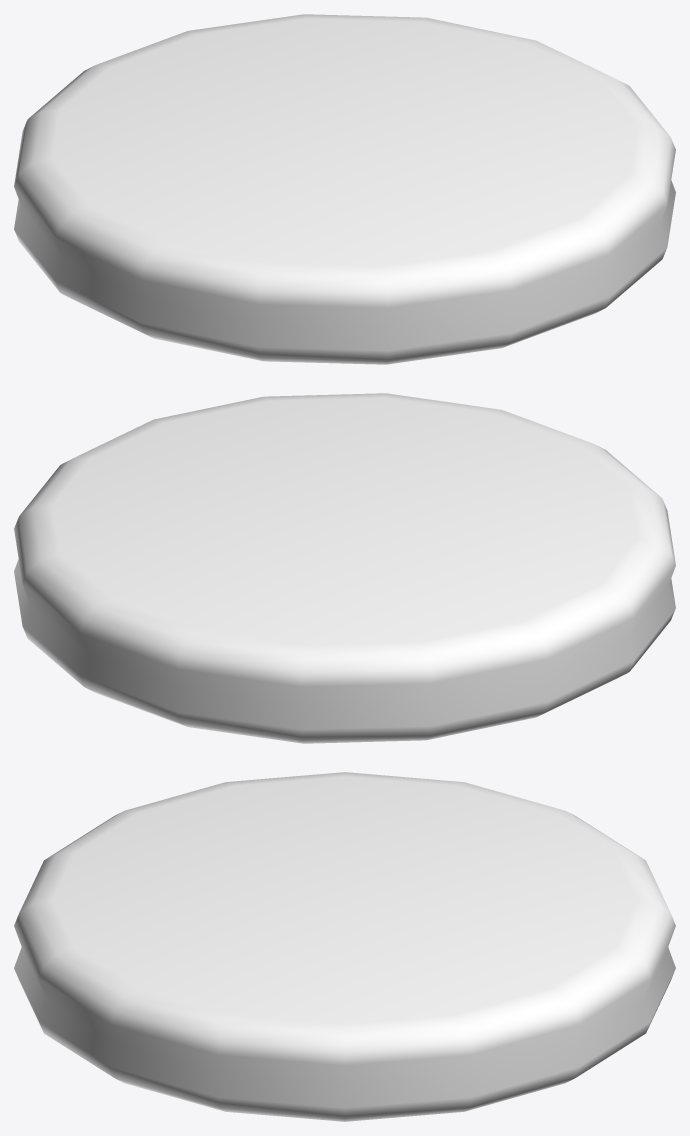
Rendered from Pancake.fbx.
The picture shows the model from 3 angles, top to bottom: view 1: azimuth 30°, elevation 25°; view 2: azimuth 150°, elevation 25°; view 3: azimuth 270°, elevation 25°; orthographic projection.
Visible parts, largest first — view 1: Pancake; view 2: Pancake; view 3: Pancake.
Boxes of the visible parts, x1=… form: Pancake: x1=14, y1=14, x2=675, y2=364; Pancake: x1=14, y1=393, x2=675, y2=743; Pancake: x1=14, y1=772, x2=675, y2=1121.
Size of the model in its own units: 117 by 18.12 by 117.
